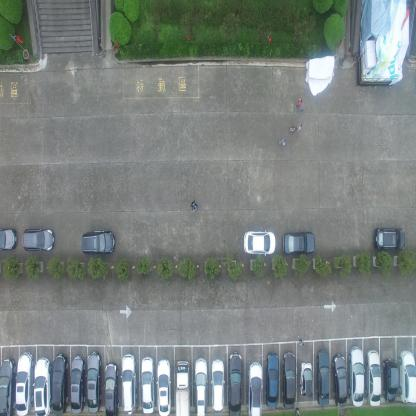car: (15, 351, 34, 415), (121, 352, 138, 415), (86, 351, 102, 415), (34, 356, 51, 416), (398, 348, 416, 404), (52, 352, 68, 415), (349, 343, 364, 408), (227, 352, 242, 415), (0, 356, 16, 415), (80, 229, 116, 255), (243, 228, 276, 256), (70, 355, 85, 415), (366, 348, 381, 407), (247, 360, 263, 415), (174, 360, 190, 415), (265, 351, 280, 409), (157, 358, 172, 415), (332, 351, 347, 407), (282, 350, 296, 410), (141, 356, 155, 416), (374, 225, 406, 251), (316, 348, 330, 407), (282, 230, 315, 255), (104, 361, 119, 416), (22, 228, 56, 252), (194, 357, 208, 415), (211, 358, 225, 413), (382, 355, 398, 403), (299, 358, 314, 398), (0, 227, 18, 251)
